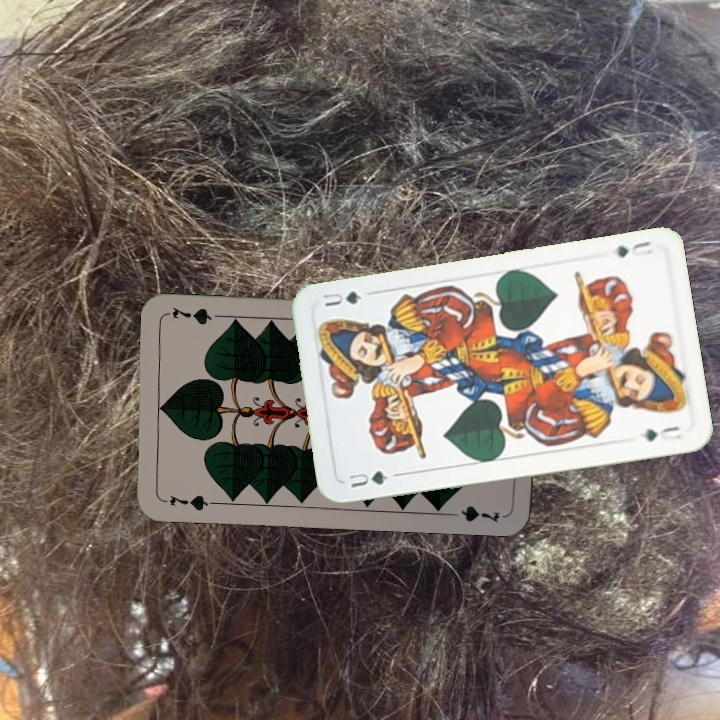G7: (158, 490, 217, 514)
GU: (344, 467, 391, 491), (611, 237, 656, 260)
